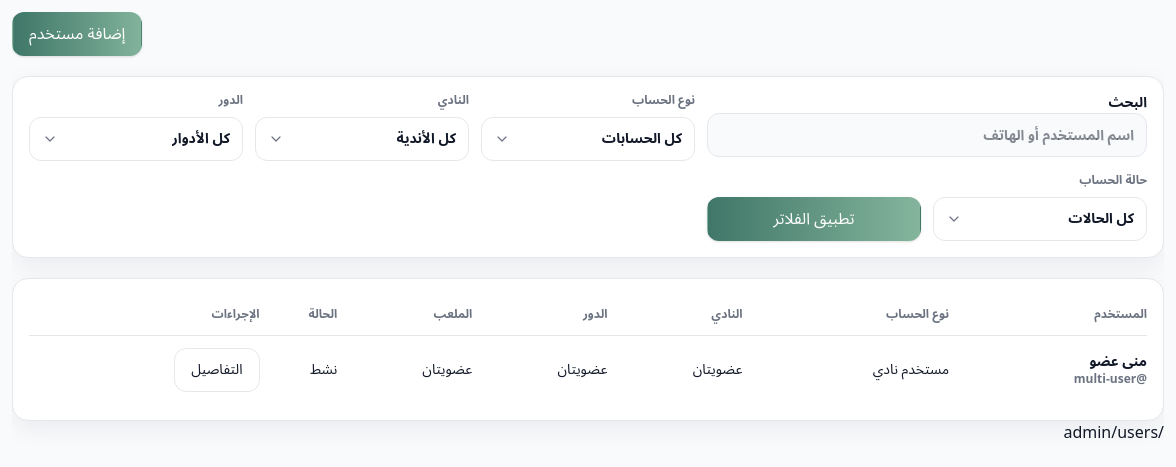
Test: AdminUsersPage › submits filters through URL query without local-only filtering
The width and height of the screenshot is (1176, 467).
Expected: the text "منى عضو" is shown, [1089,347,1147,376]
Click the button named "الدور" at (136, 139), box [29,117,243,161]
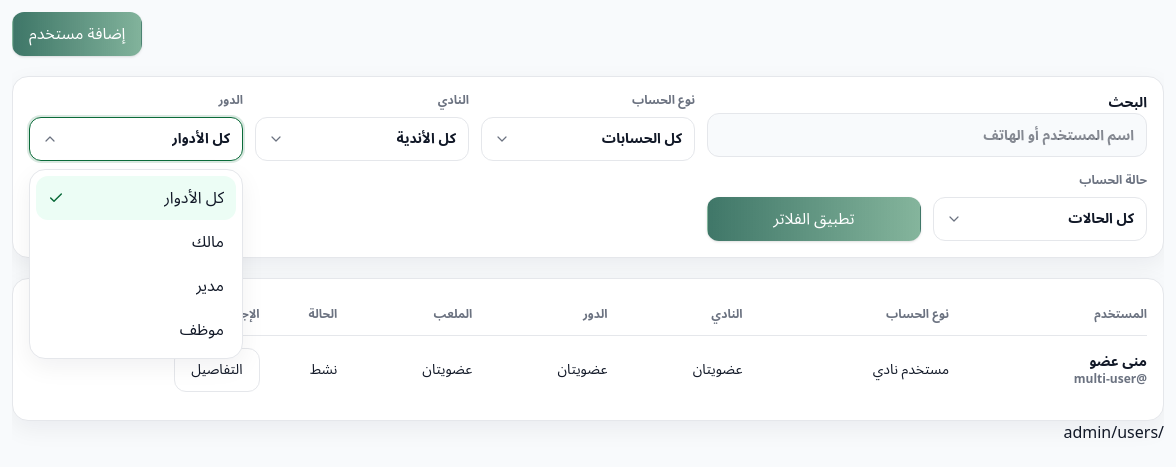
Click the option "موظف" at (136, 330), box [36,308,236,352]
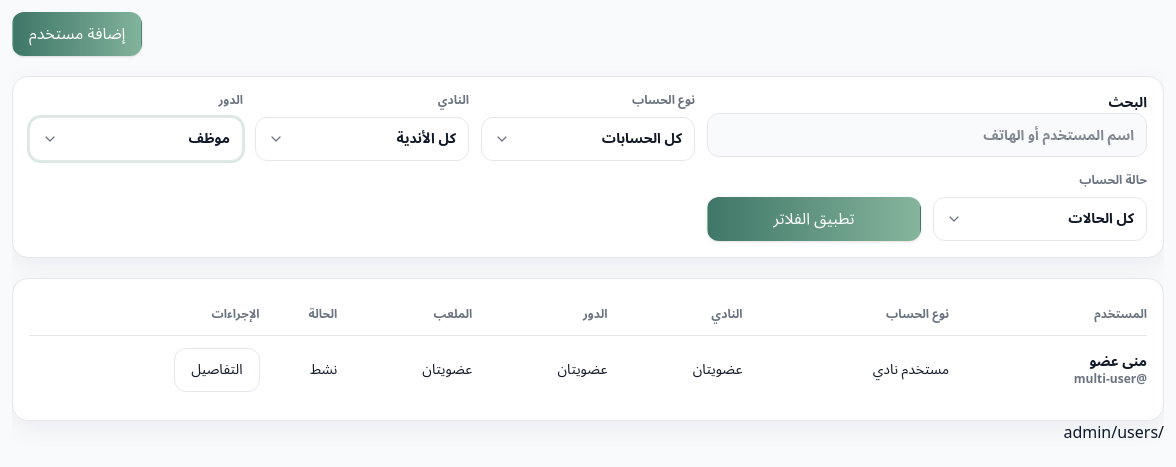
Click the button "تطبيق الفلاتر" at (814, 219), box [707,197,921,241]
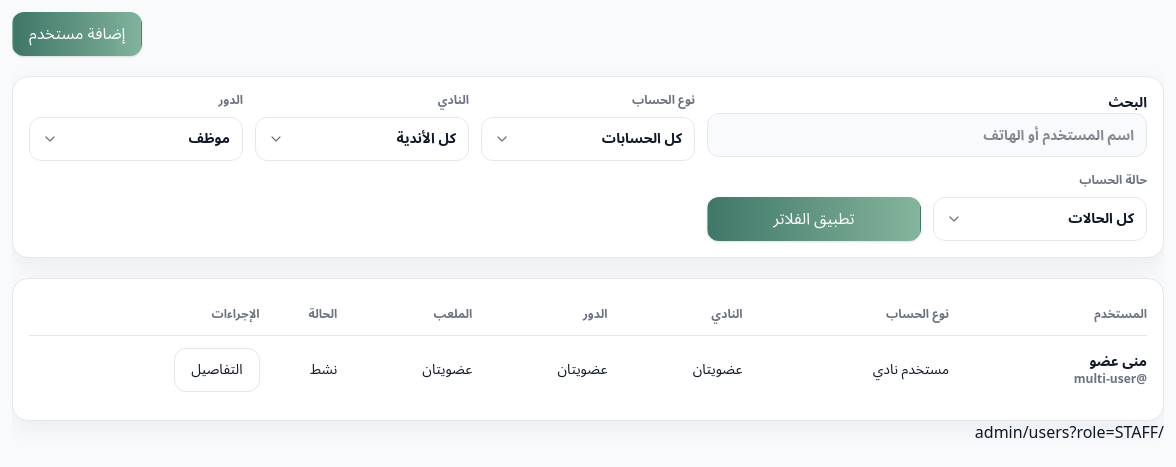
Expected: the text with test id "location" reads "/admin/users?role=STAFF", [975,416,1164,450]
